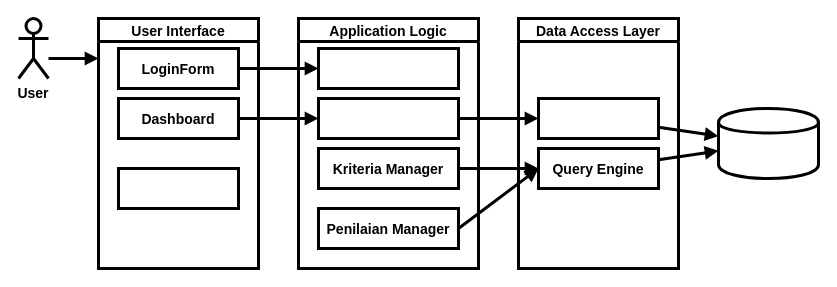
The diagram is 837 pixels wide and 287 high, and some of its shapes have lost their labels. The shapes that lost their labels are listed below. From the top down, each one's centre as x and y in pixels, then its label:
point (388, 68): AHP Processor
point (388, 118): Alternatif Manager
point (598, 118): Repository
point (768, 143): Database (MySQL)
point (178, 188): Logout
